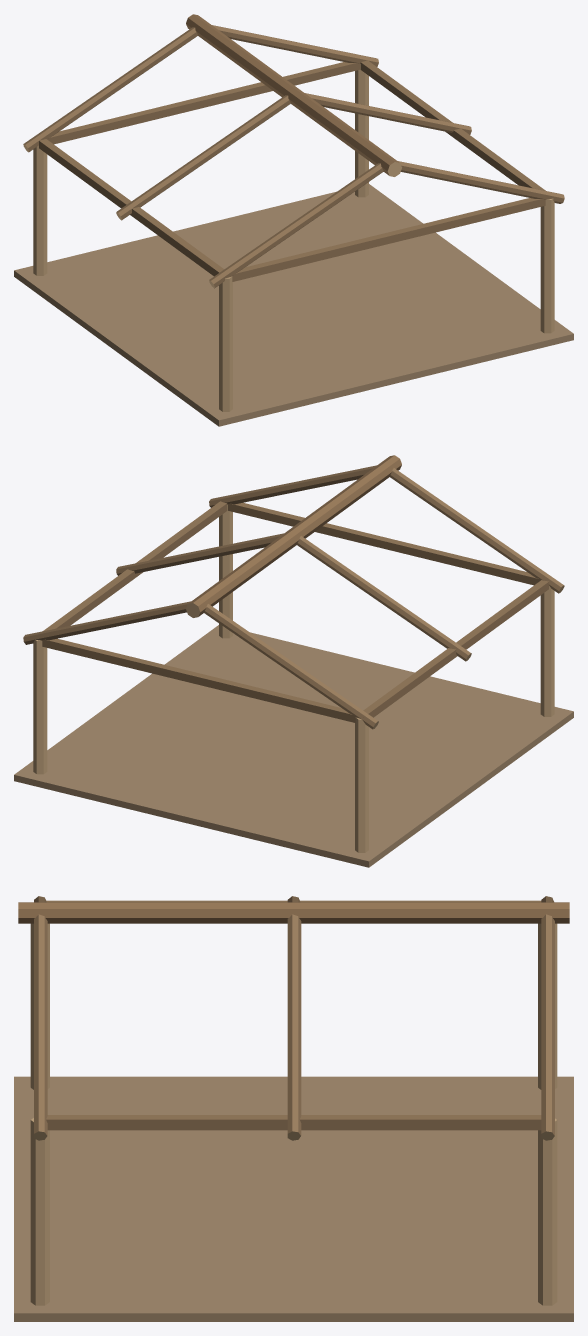
Rendered from building_warehouse_frame.glb.
3 renders of one model, top to bottom at view 1: azimuth 30°, elevation 25°; view 2: azimuth 150°, elevation 25°; view 3: azimuth 270°, elevation 25°, orthographic. The views are drawn at different scales.
Visible parts, largest first — view 1: building_warehouse_frame; view 2: building_warehouse_frame; view 3: building_warehouse_frame.
Part boxes in pixels (box(x1,y1,x2,y2)): building_warehouse_frame: box(14, 14, 573, 426); building_warehouse_frame: box(14, 455, 573, 867); building_warehouse_frame: box(14, 896, 573, 1321).
Bounding box in the file's own units: 5.85 × 3.47 × 5.85.
